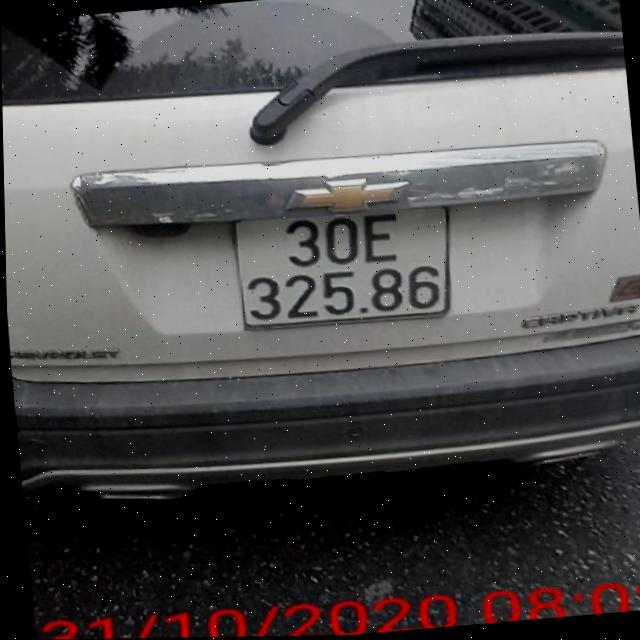plate: (225, 191, 467, 334)
